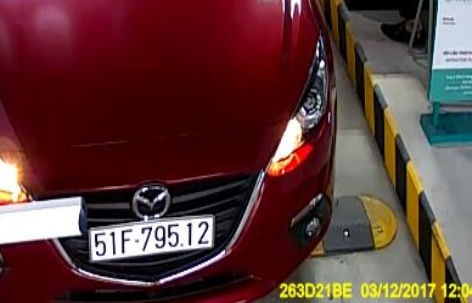plate: (85, 217, 218, 265)
